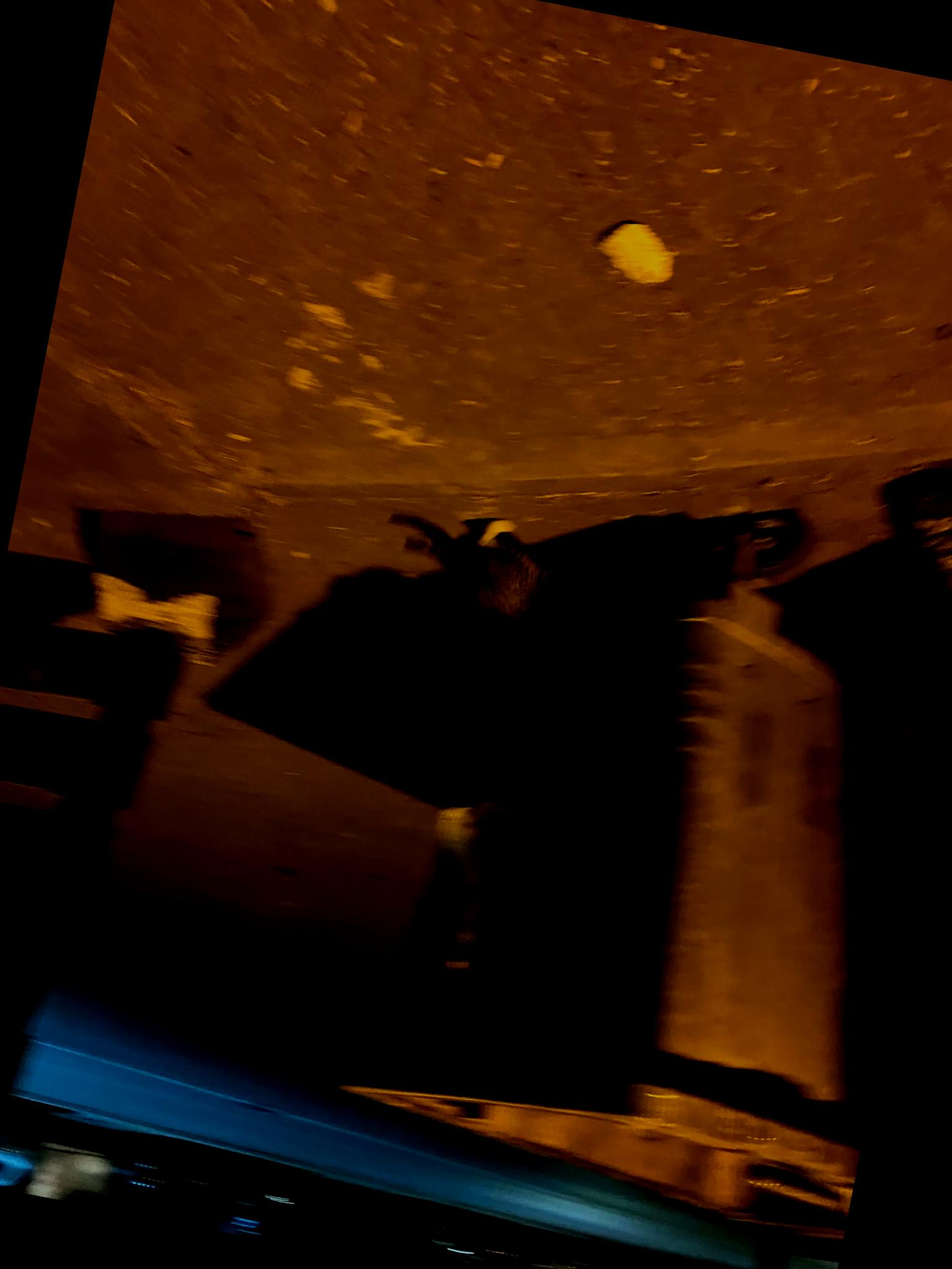macka: (389, 503, 634, 647)
